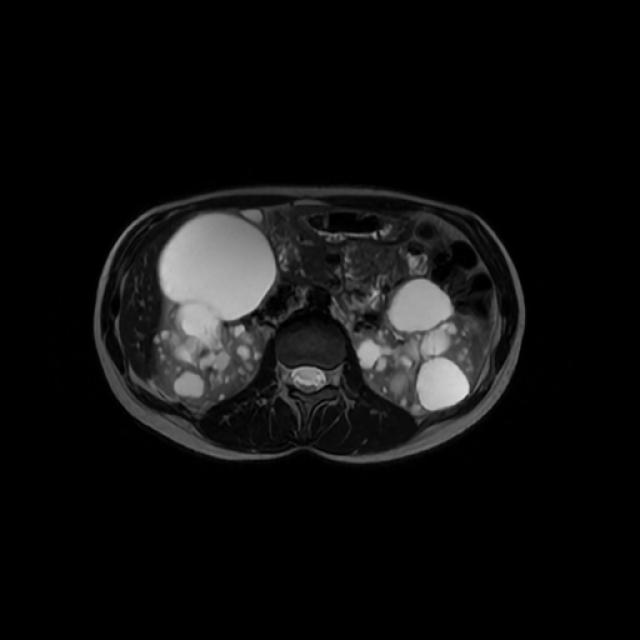sag: (153, 209, 278, 413)
sol: (347, 275, 489, 417)
